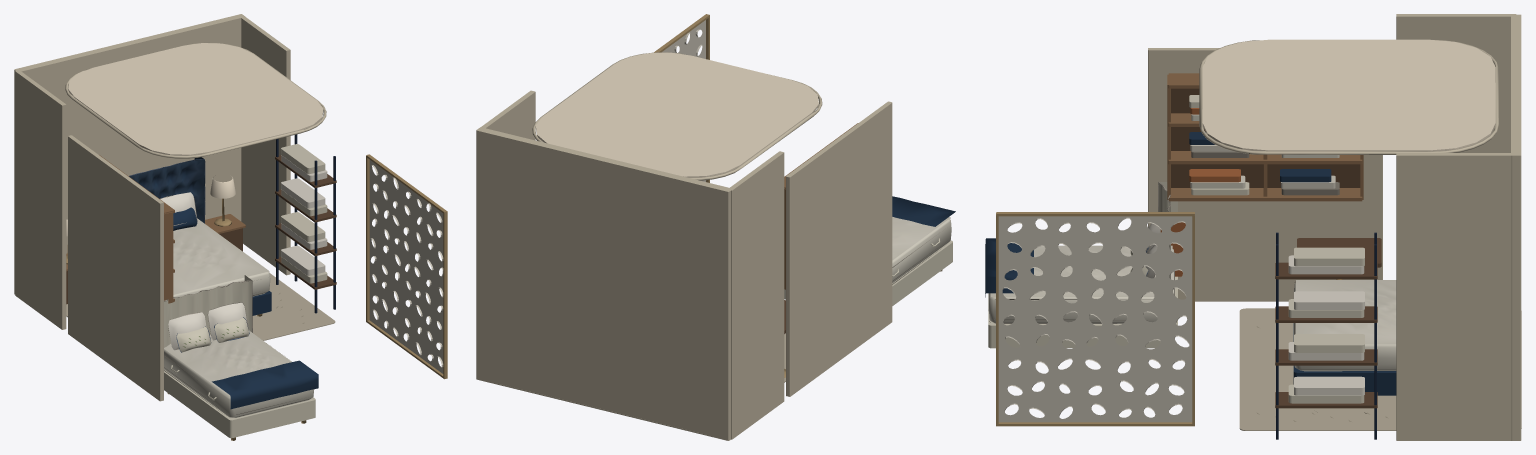
File: showroom.glb
3 renders of one model, left to right at view 1: azimuth 30°, elevation 25°; view 2: azimuth 150°, elevation 25°; view 3: azimuth 270°, elevation 25°, orthographic. The views are drawn at different scales.
Parts seen in each view (by area): view 1: wood, cloth, light, metal; view 2: wood, light, cloth, metal; view 3: wood, cloth, light, metal.
Part boxes in pixels (bbox=[...]): wood: bbox=[14, 14, 443, 401]; cloth: bbox=[66, 134, 335, 438]; light: bbox=[66, 43, 323, 236]; metal: bbox=[66, 154, 447, 440]; wood: bbox=[476, 20, 892, 440]; light: bbox=[535, 52, 818, 177]; cloth: bbox=[497, 196, 955, 435]; metal: bbox=[654, 14, 942, 377]; wood: bbox=[998, 14, 1521, 440]; cloth: bbox=[985, 95, 1521, 439]; light: bbox=[1202, 39, 1495, 151]; metal: bbox=[996, 212, 1342, 426].
Bounding box in the file's own units: 3.41 × 3.2 × 5.46.
